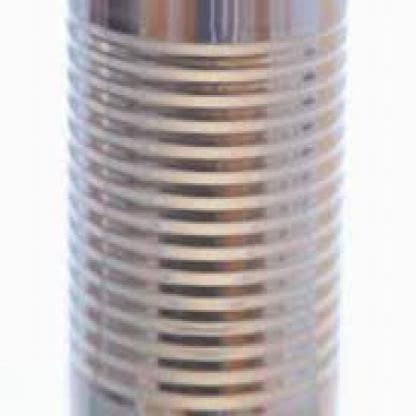trash: (68, 0, 345, 415)
